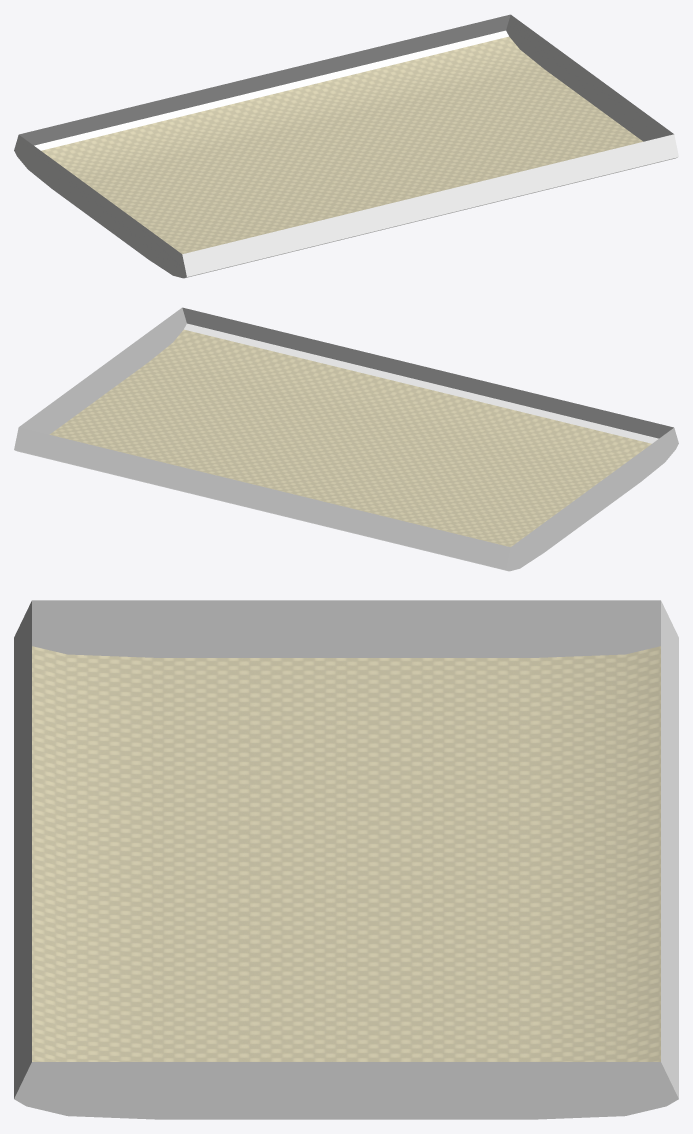
File: Building Light OFF.fbx
3 renders of one model, top to bottom at view 1: azimuth 30°, elevation 25°; view 2: azimuth 150°, elevation 25°; view 3: azimuth 270°, elevation 25°, orthographic. The views are drawn at different scales.
Parts seen in each view (by area): view 1: Building Light OFF; view 2: Building Light OFF; view 3: Building Light OFF.
Part boxes in pixels (x1=…): Building Light OFF: x1=14, y1=14, x2=678, y2=278; Building Light OFF: x1=14, y1=307, x2=678, y2=571; Building Light OFF: x1=14, y1=600, x2=678, y2=1119.
Bounding box in the file's own units: 93.15 × 5.44 × 56.71.
